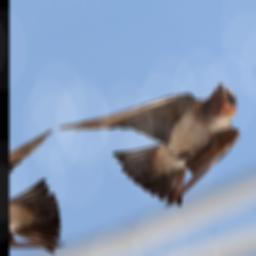Swallow: (56, 66, 256, 227)
